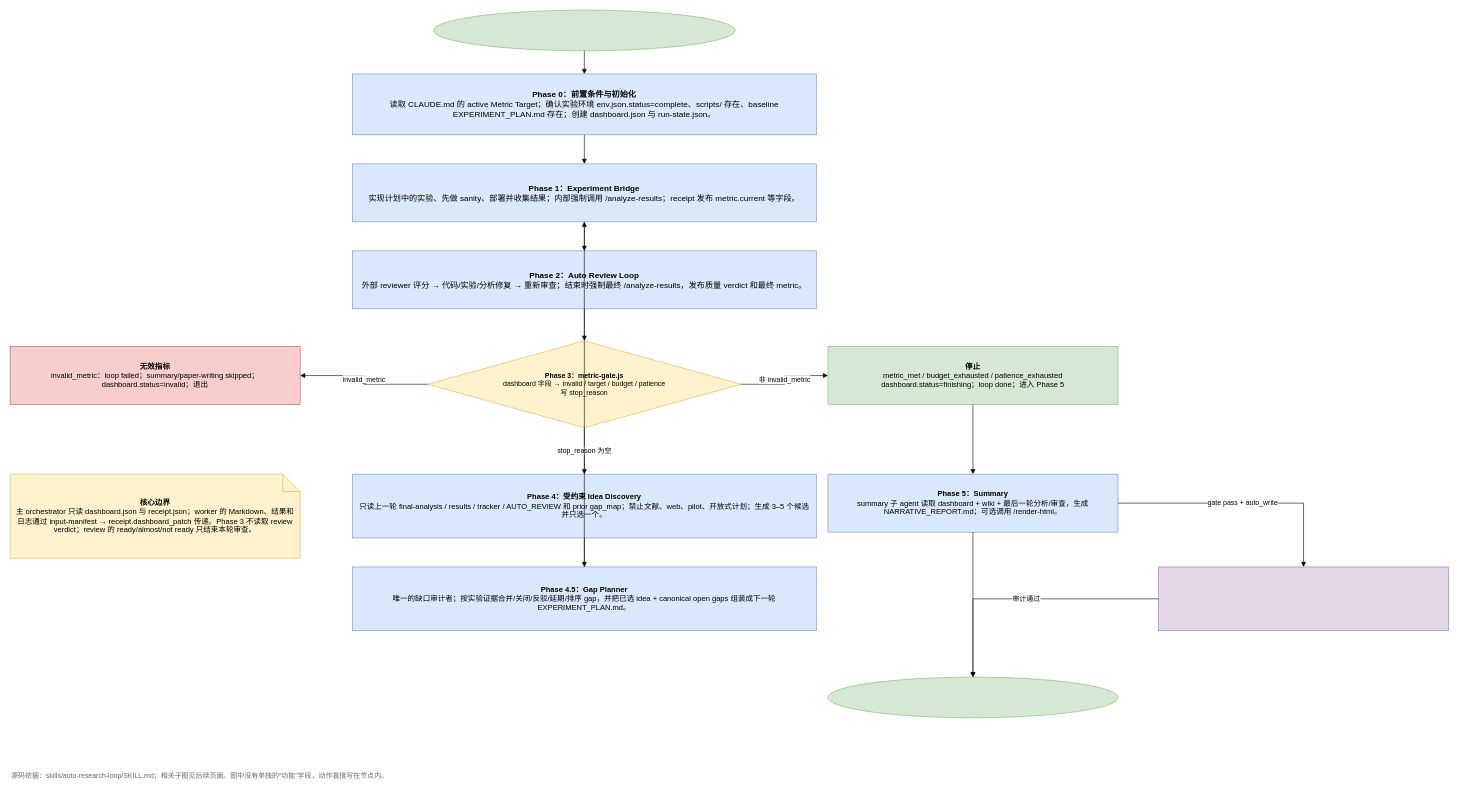
The diagram is 1459 pixels wide and 798 high, and some of its shapes have lost their labels. Here are the shapes that lost their labels. From the top down, the centre of each, then its label:
At pixel 584 30: "开始 / 恢复 参数：run_id、baseline plan、auto_write、render_html、max_iterations".
At pixel 1303 598: "Phase 6：Paper Writing 达标且 iteration≥2；AUTO_WRITE=true；paper audit pass 后完成。".
At pixel 972 697: "完成 dashboard.status=completed；run-state 四个外层 phase terminal".
